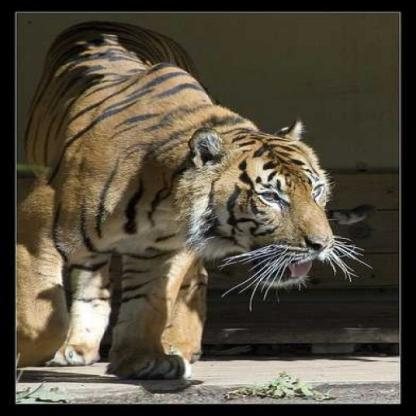Tiger: (37, 12, 362, 392)
